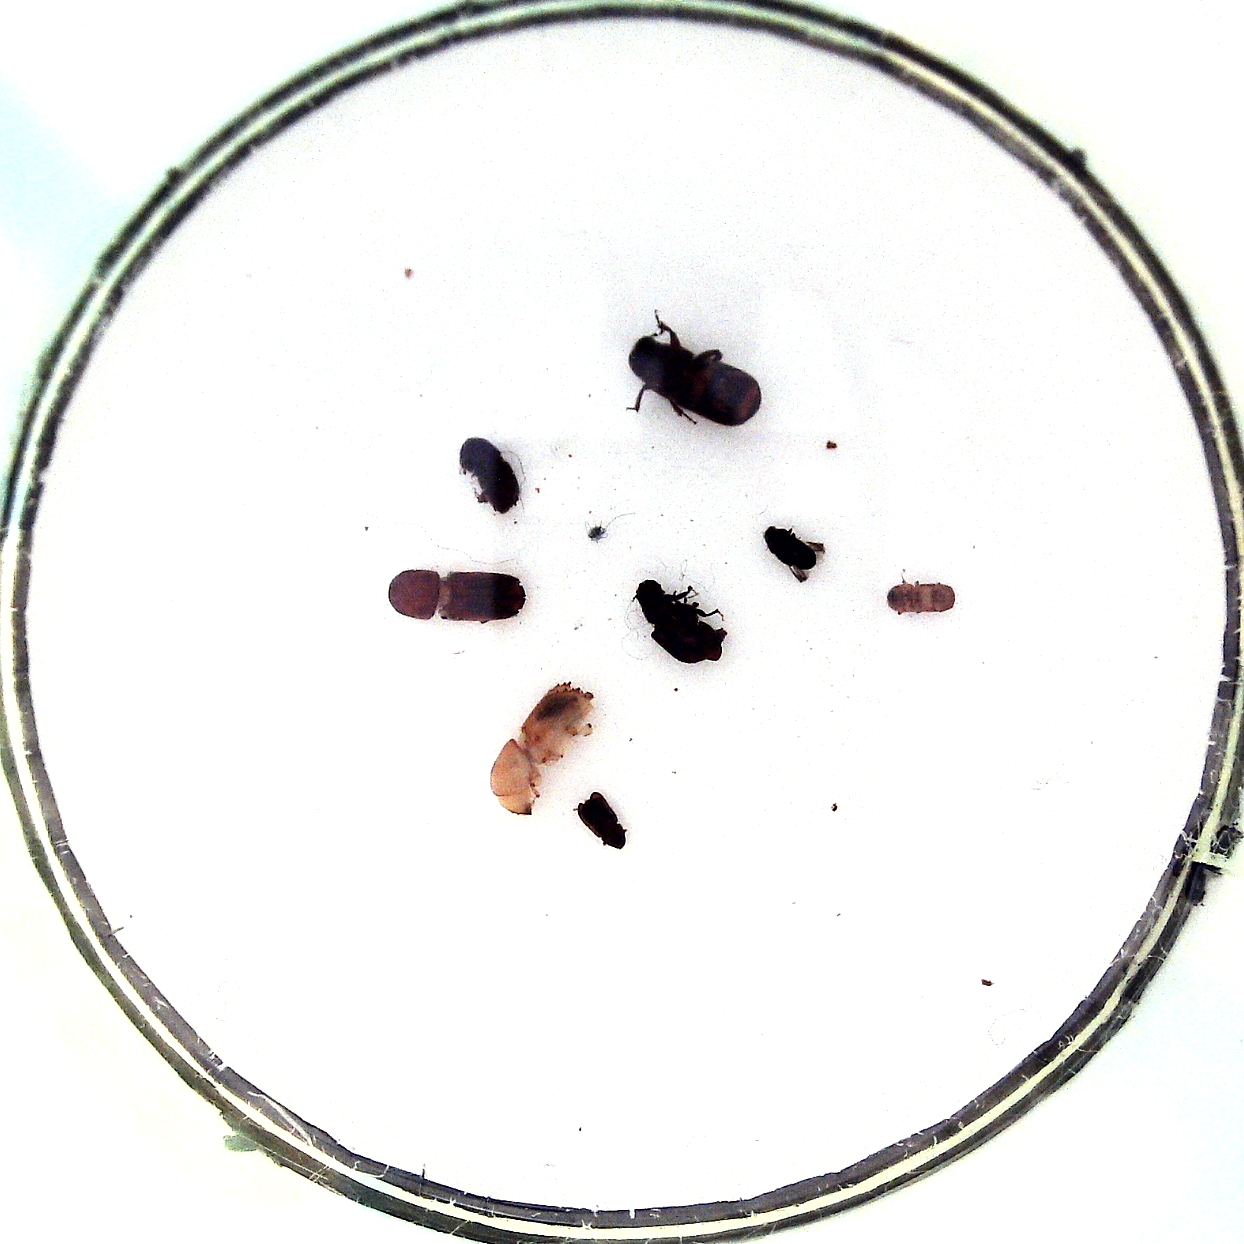Boerner: (489, 682, 596, 815), (388, 568, 525, 623)
Leconte: (629, 336, 761, 427), (635, 579, 726, 665)
acuminatus: (763, 524, 817, 570)
coleoptera: (578, 792, 627, 850), (887, 582, 956, 612)
linnaeus: (459, 437, 519, 515)
